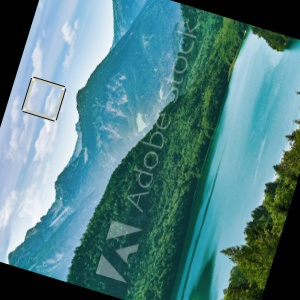square: (19, 76, 68, 123)
